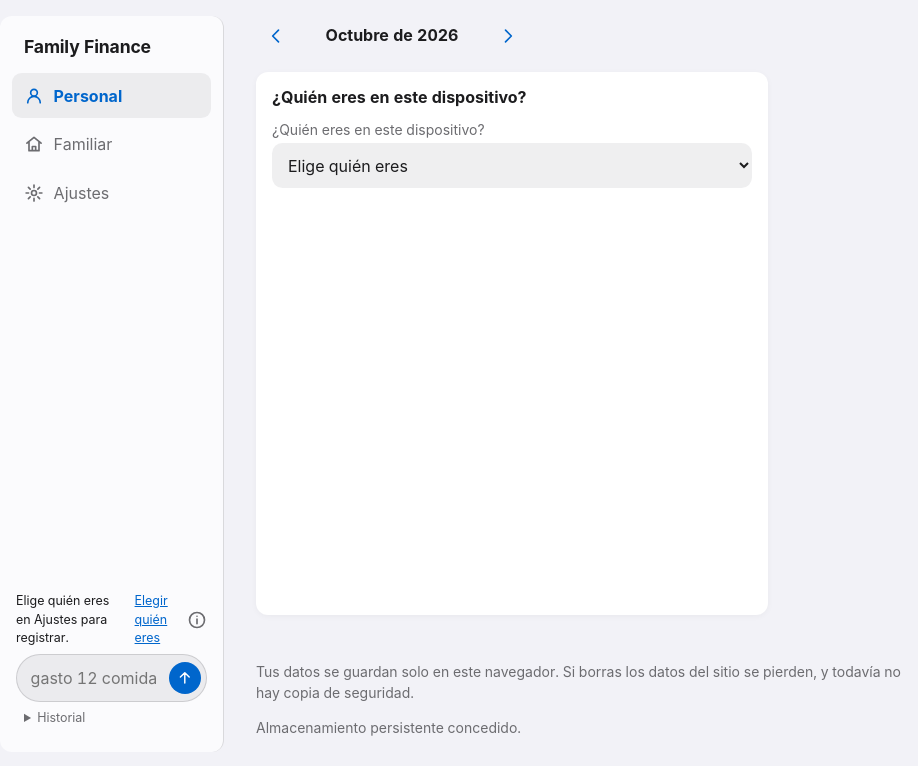
Test: shell › S2: month picker starts at the clock month and moves both ways
The width and height of the screenshot is (918, 766).
Expected: the heading "octubre de 2026" is shown, [326,25,458,45]
Click the button named "Mes siguiente": (508, 36) [488,16,528,56]
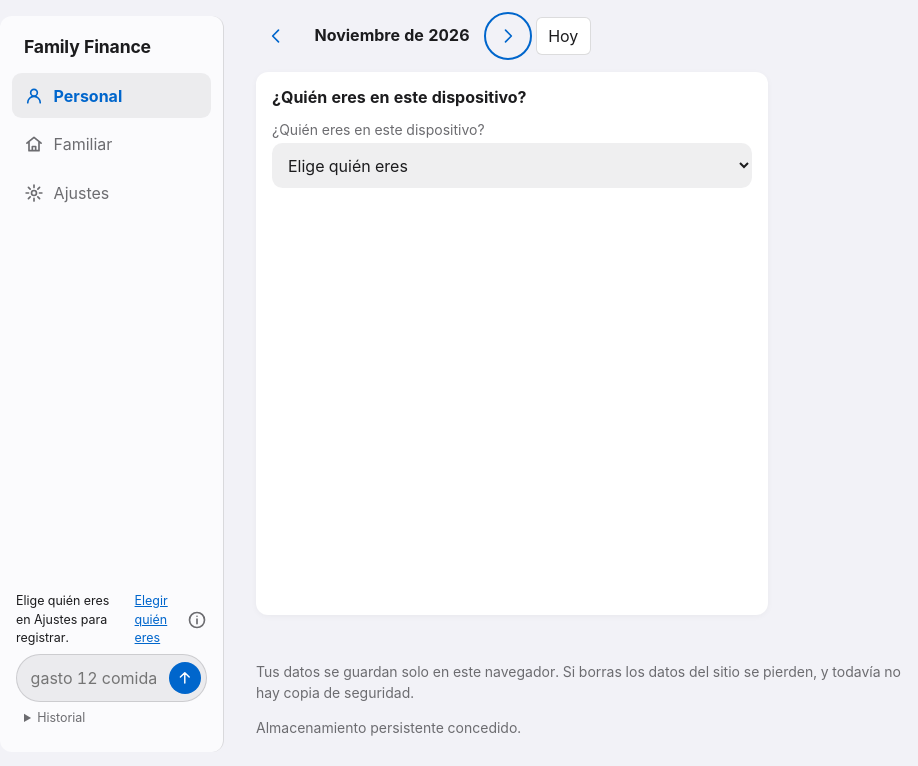
Now the heading "noviembre de 2026" is shown, box [304,26,480,46]
Click the button "Hoy": (563, 36) [536,17,590,55]
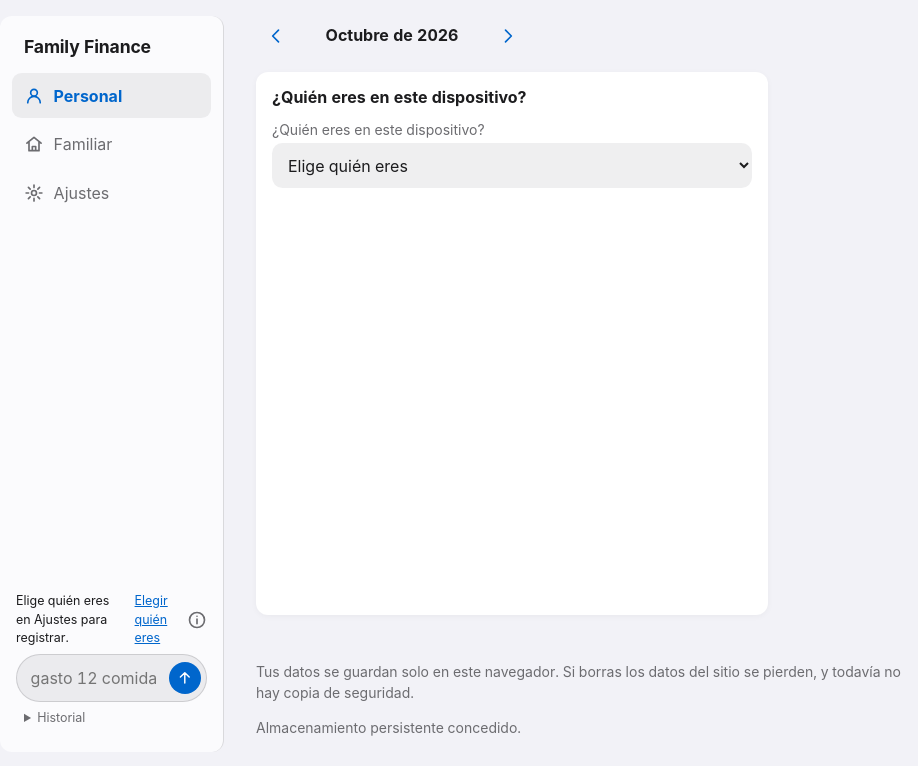
Click the button named "Mes anterior": (276, 36) [256,16,296,56]
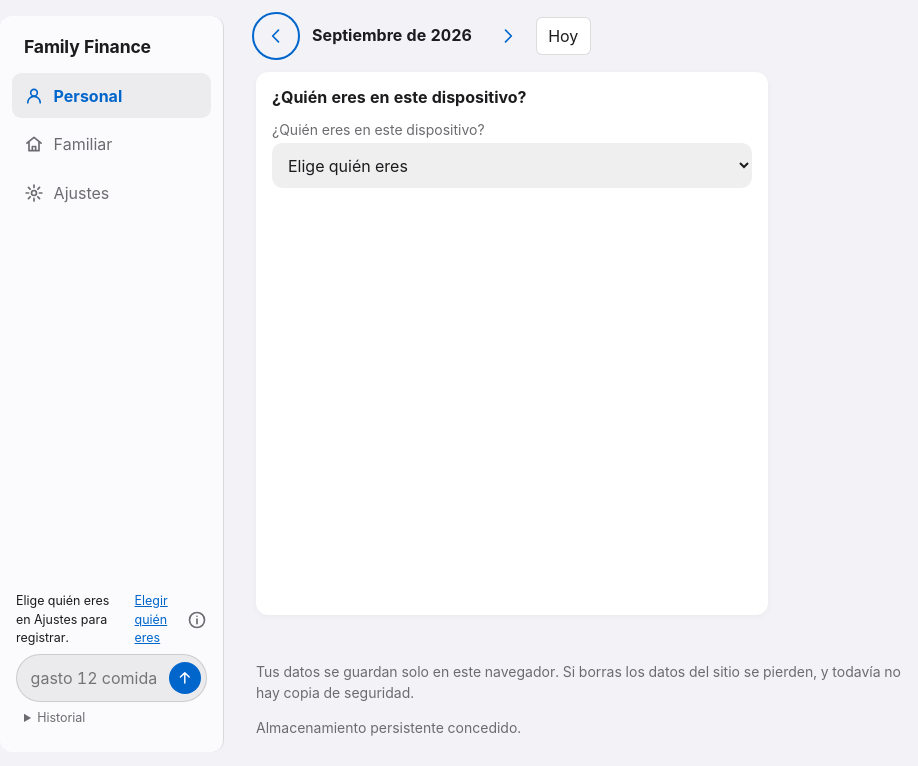
Now the heading "septiembre de 2026" is shown, box [304,26,480,46]
